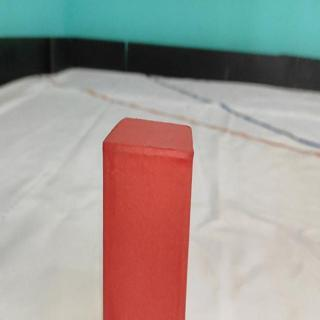redbox: (100, 115, 193, 317)
